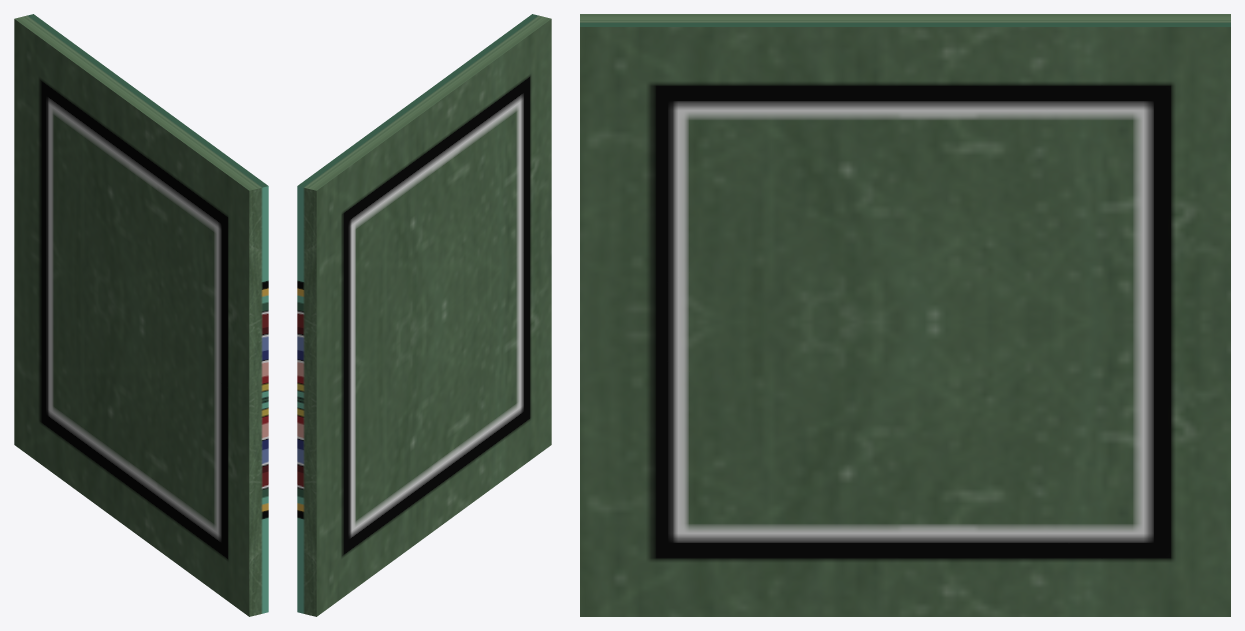
File: SM_Pandaegong02A.fbx
3 renders of one model, left to right at view 1: azimuth 30°, elevation 25°; view 2: azimuth 150°, elevation 25°; view 3: azimuth 270°, elevation 25°, orthographic. The views are drawn at different scales.
Parts seen in each view (by area): view 1: SM_Pandaegong02A; view 2: SM_Pandaegong02A; view 3: SM_Pandaegong02A.
Part boxes in pixels (box(x1,y1,x2,y2)): SM_Pandaegong02A: box(14, 14, 268, 616); SM_Pandaegong02A: box(297, 14, 551, 616); SM_Pandaegong02A: box(580, 14, 1230, 616).
Size of the model in its own units: 3.38 by 71.17 by 71.17.
